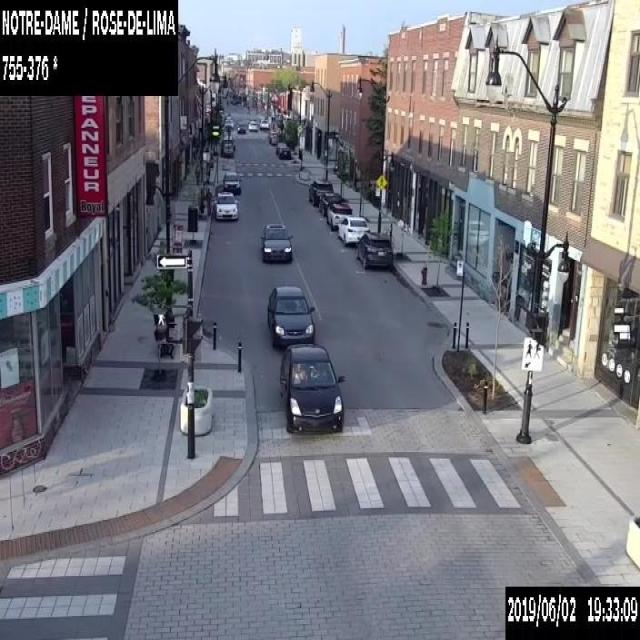vehicle: (278, 342, 344, 433), (267, 285, 314, 347), (355, 231, 394, 268), (260, 222, 292, 264), (337, 216, 370, 243), (326, 202, 352, 230), (214, 191, 238, 219), (308, 179, 332, 205), (318, 192, 341, 216), (222, 170, 240, 193), (277, 146, 290, 158), (222, 143, 233, 156), (274, 142, 286, 152), (247, 119, 257, 131), (268, 130, 276, 144), (259, 119, 268, 128), (236, 126, 245, 134)
